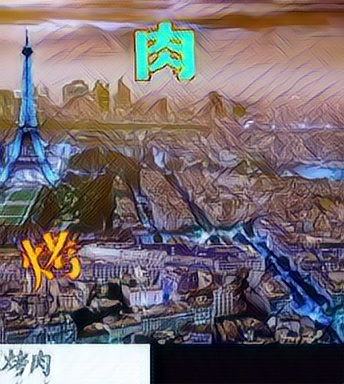BFBE: (20, 225, 82, 289)
C8E2: (132, 18, 194, 82)
